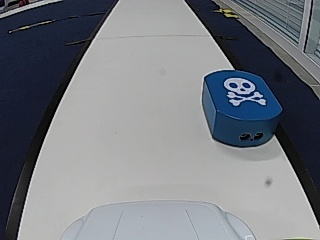danger: (225, 78, 262, 108)
